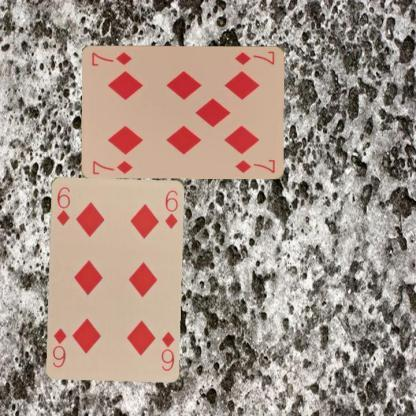6d: (53, 184, 72, 226), (158, 328, 176, 372)
7d: (90, 158, 134, 176), (233, 48, 276, 66)
